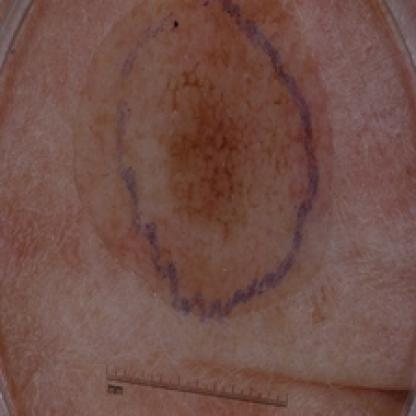Skin_Cancer-Malignant: (166, 51, 266, 240)
